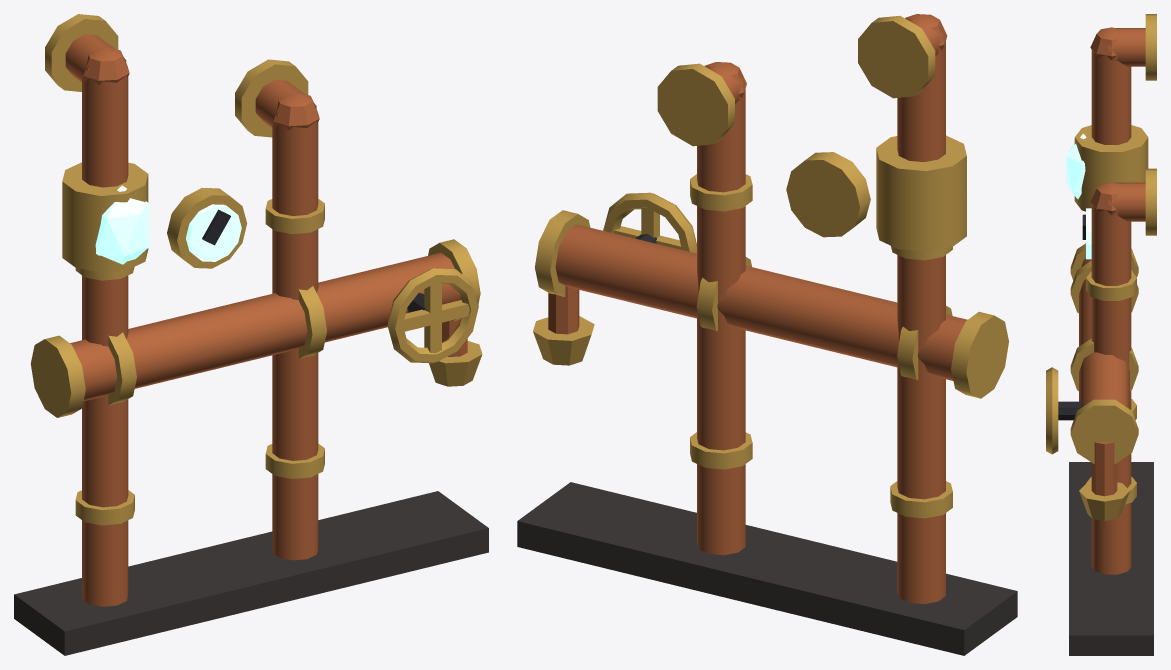
Rendered from CanosParede.fbx.
The picture shows the model from 3 angles, left to right: view 1: azimuth 30°, elevation 25°; view 2: azimuth 150°, elevation 25°; view 3: azimuth 270°, elevation 25°; orthographic projection. The views are drawn at different scales.
Visible parts, largest first — view 1: Corpo, CristalPulso; view 2: Corpo; view 3: Corpo, CristalPulso.
Part boxes in pixels (x1=…): Corpo: x1=14, y1=14, x2=488, y2=655; CristalPulso: x1=95, y1=185, x2=241, y2=264; Corpo: x1=517, y1=14, x2=1017, y2=655; Corpo: x1=1046, y1=14, x2=1156, y2=655; CristalPulso: x1=1066, y1=133, x2=1091, y2=259.
Size of the model in its own units: 2.98 by 3.84 by 0.7833.
